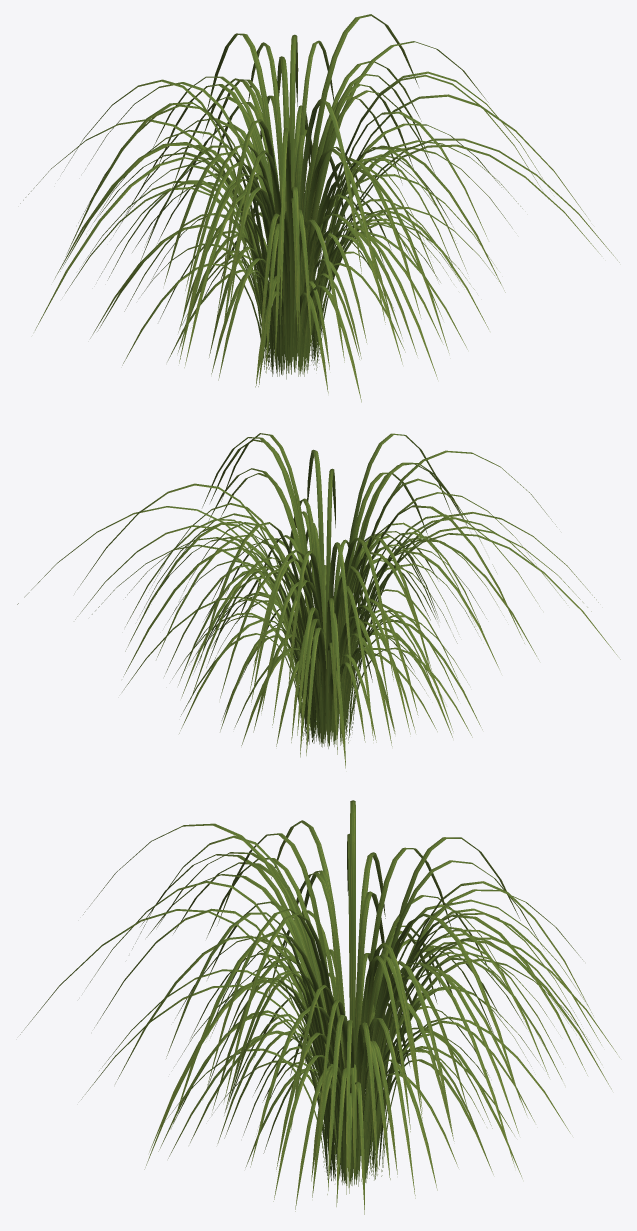
The model's file is grass.glb.
3 views of the same model, one above another, from view 1: azimuth 30°, elevation 25°; view 2: azimuth 150°, elevation 25°; view 3: azimuth 270°, elevation 25° (orthographic). The views are drawn at different scales.
Visible parts, largest first — view 1: Foliage; view 2: Foliage; view 3: Foliage.
Part boxes in pixels (<box>): Foliage: <box>20,14,619,402</box>; Foliage: <box>17,433,620,768</box>; Foliage: <box>20,800,619,1214</box>.
Bounding box in the file's own units: 1.26 × 0.65 × 1.09.
1 material, 1 textured.
